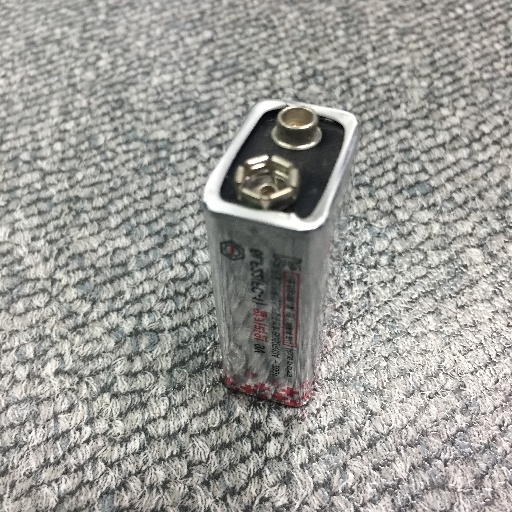Battery_3: (168, 78, 383, 426)
